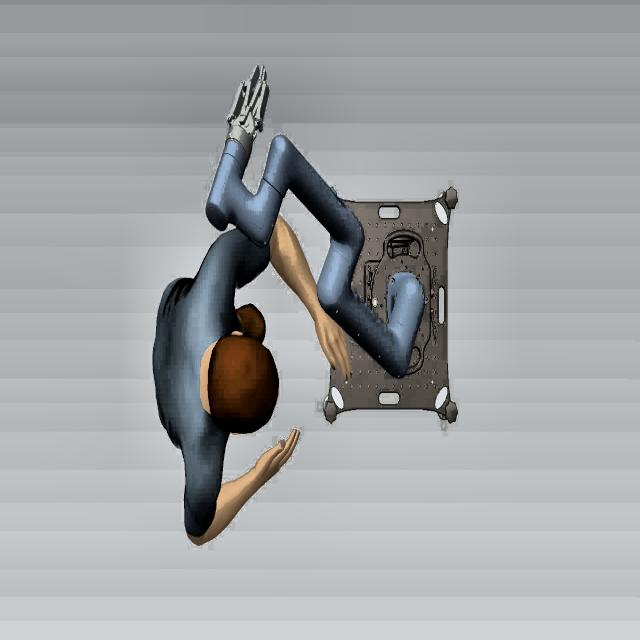robot: (203, 76, 429, 392)
